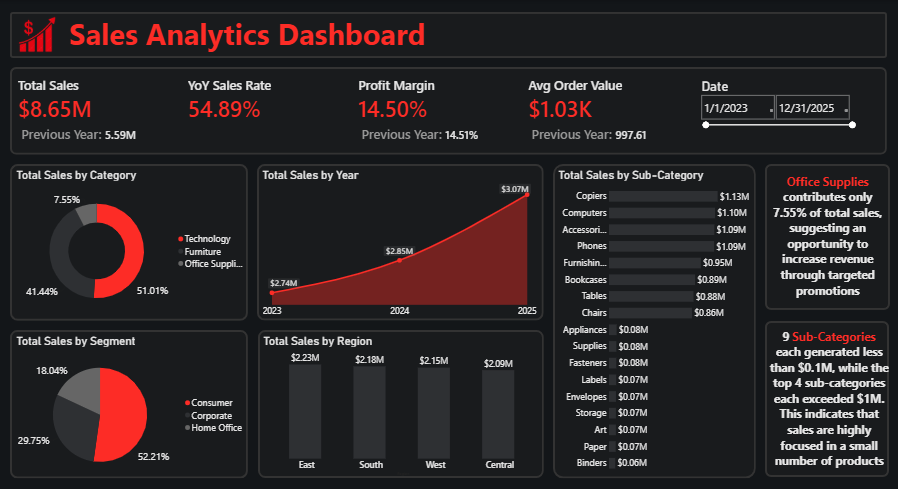

This screenshot's page, from the dashboard's own definition file:
{"tool":"powerbi","page":{"name":"Sales Analysis","canvas":[3300,1800],"ordinal":0},"visuals":[{"type":"shape","box":[2810.2,602.4,459.2,536.3],"z":0},{"type":"shape","box":[2030.8,601.3,745,1154.8],"z":1000},{"type":"shape","box":[947.3,1212.2,1049.8,543.7],"z":2000},{"type":"shape","box":[944.2,602.9,1053,574.9],"z":3000},{"type":"shape","box":[37,602.8,873.8,575.7],"z":4000},{"type":"shape","box":[37,1212.8,873.8,544.9],"z":5000},{"type":"donutChart","title":"Total Sales by Category","fields":{"Category":["Data.Category"],"Y":["Sum(Data.Sales)"]},"box":[55.1,618.4,853.3,562],"z":6000},{"type":"areaChart","title":"Total Sales by Year","fields":{"Category":["Data.Year"],"Y":["Sum(Data.Sales)"]},"box":[959.8,618.4,1017.8,558.6],"z":7000},{"type":"pieChart","title":"Total Sales by Segment","fields":{"Category":["Data.Segment"],"Y":["Sum(Data.Sales)"]},"box":[53.7,1227.8,849,546.8],"z":8000},{"type":"clusteredColumnChart","title":"Total Sales by Region","fields":{"Category":["Data.Region"],"Y":["Sum(Data.Sales)"]},"box":[963.2,1228.4,1038.3,527.7],"z":9000},{"type":"barChart","title":"Total Sales by Sub-Category","fields":{"Category":["Data.Sub-Category"],"Y":["Sum(Data.Sales)"]},"box":[2047.9,618.4,712.8,1134.3],"z":10000},{"type":"shape","box":[37,246.5,3221.2,322],"z":11000},{"type":"cardVisual","fields":{"Data":["Sum(Data.Sales)","Data.Sales Growth Rate","Measures (2).Profit Margin","Data.Avg Order Value"]},"box":[36.7,279.2,2527.3,312.2],"z":12000},{"type":"textbox","box":[2817.1,632.1,445.5,476.3],"z":13000},{"type":"shape","box":[2810.2,1179.2,455.5,573.1],"z":14000},{"type":"textbox","box":[2815.7,1199.7,456.2,528],"z":15000},{"type":"slicer","fields":{"Values":["Date.Date"]},"box":[2563.2,282.7,587.8,249.8],"z":16000},{"type":"shape","box":[36.7,44.1,3221.6,169],"z":17000},{"type":"textbox","box":[235.1,44.1,1348.2,169],"z":18000},{"type":"image","box":[36.7,55.1,198.4,143.3],"z":18001}]}

Visuals, with their boxes in screenshot pixels (x1, y1, x2, y2), scaled from the page's 3300x1800 canvas onto the 898x489 screenshot:
shape: (x1=765, y1=164, x2=890, y2=309)
shape: (x1=553, y1=163, x2=755, y2=477)
shape: (x1=258, y1=329, x2=543, y2=477)
shape: (x1=257, y1=164, x2=543, y2=320)
shape: (x1=10, y1=164, x2=248, y2=320)
shape: (x1=10, y1=329, x2=248, y2=478)
"Total Sales by Category" donutChart: (x1=15, y1=168, x2=247, y2=321)
"Total Sales by Year" areaChart: (x1=261, y1=168, x2=538, y2=320)
"Total Sales by Segment" pieChart: (x1=15, y1=334, x2=246, y2=482)
"Total Sales by Region" clusteredColumnChart: (x1=262, y1=334, x2=545, y2=477)
"Total Sales by Sub-Category" barChart: (x1=557, y1=168, x2=751, y2=476)
shape: (x1=10, y1=67, x2=887, y2=154)
cardVisual - Sum(Data.Sales) x Data.Sales Growth Rate: (x1=10, y1=76, x2=698, y2=161)
textbox: (x1=767, y1=172, x2=888, y2=301)
shape: (x1=765, y1=320, x2=889, y2=476)
textbox: (x1=766, y1=326, x2=890, y2=469)
slicer - Date.Date: (x1=698, y1=77, x2=857, y2=145)
shape: (x1=10, y1=12, x2=887, y2=58)
textbox: (x1=64, y1=12, x2=431, y2=58)
image: (x1=10, y1=15, x2=64, y2=54)
